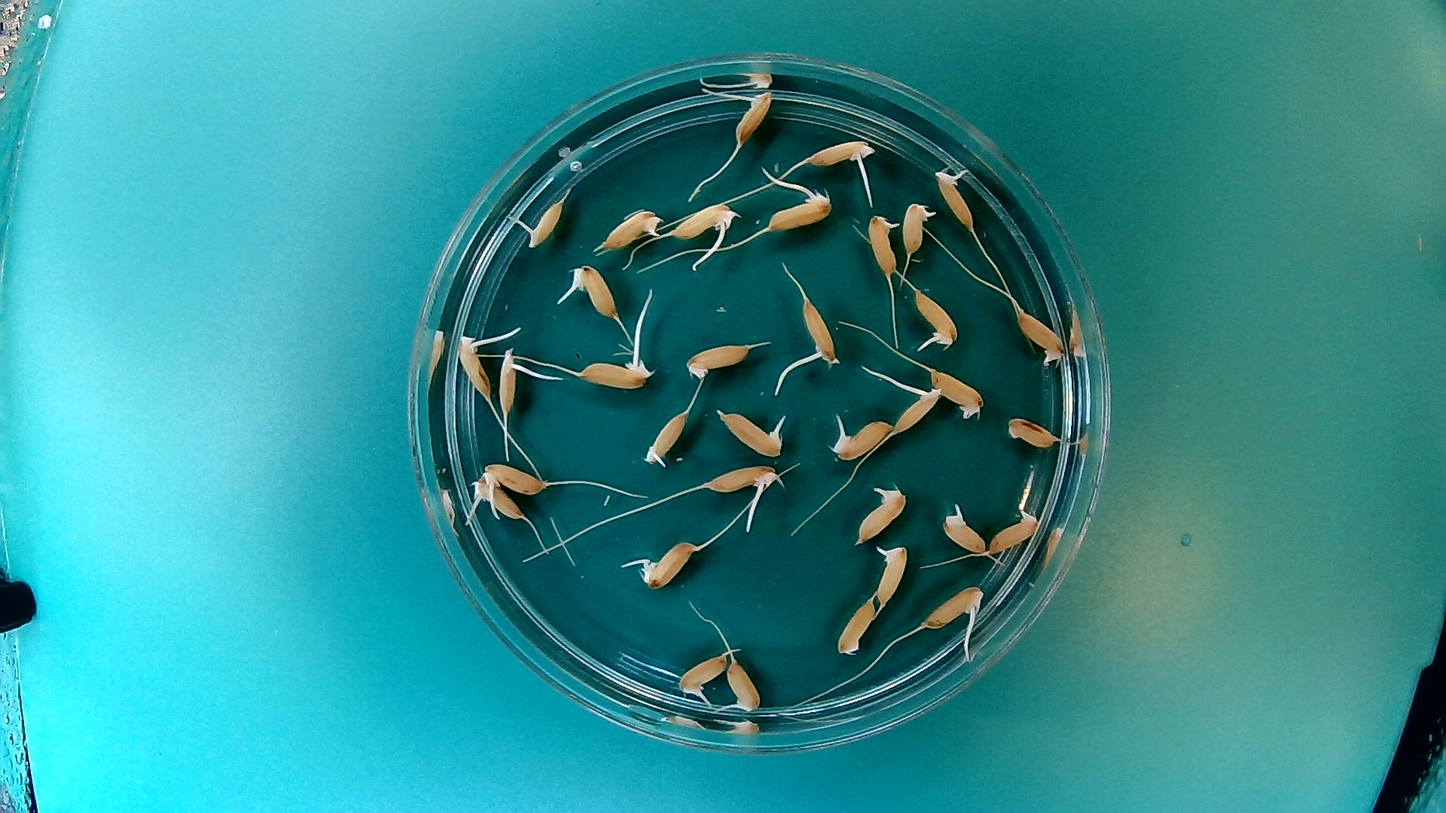no: (682, 338, 757, 384), (1012, 308, 1067, 370), (930, 367, 985, 419), (834, 594, 879, 656), (988, 507, 1041, 555), (1005, 415, 1061, 449)
yes: (712, 406, 787, 456), (764, 181, 834, 233), (854, 480, 910, 544), (563, 261, 621, 320), (593, 205, 664, 252), (454, 331, 495, 412), (917, 581, 986, 629), (668, 199, 740, 244), (638, 537, 699, 590), (639, 408, 689, 469), (933, 163, 977, 232), (829, 416, 895, 462), (911, 288, 959, 351), (703, 461, 779, 498), (803, 136, 877, 174), (579, 351, 653, 389), (730, 90, 779, 147), (891, 383, 943, 434), (469, 480, 532, 522), (941, 504, 990, 557), (676, 650, 729, 699), (519, 194, 567, 248), (480, 459, 552, 495), (873, 540, 910, 609), (804, 297, 839, 368), (865, 210, 901, 277), (900, 198, 937, 258), (726, 658, 763, 714), (496, 349, 523, 417)
